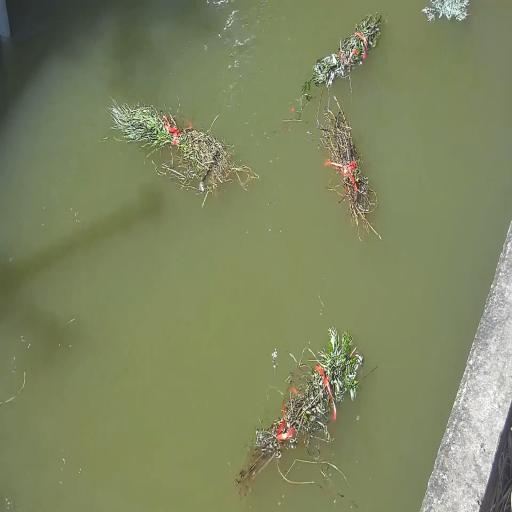twig: (236, 323, 368, 505), (105, 97, 253, 205), (294, 12, 380, 120), (319, 96, 381, 244), (422, 0, 472, 23)
